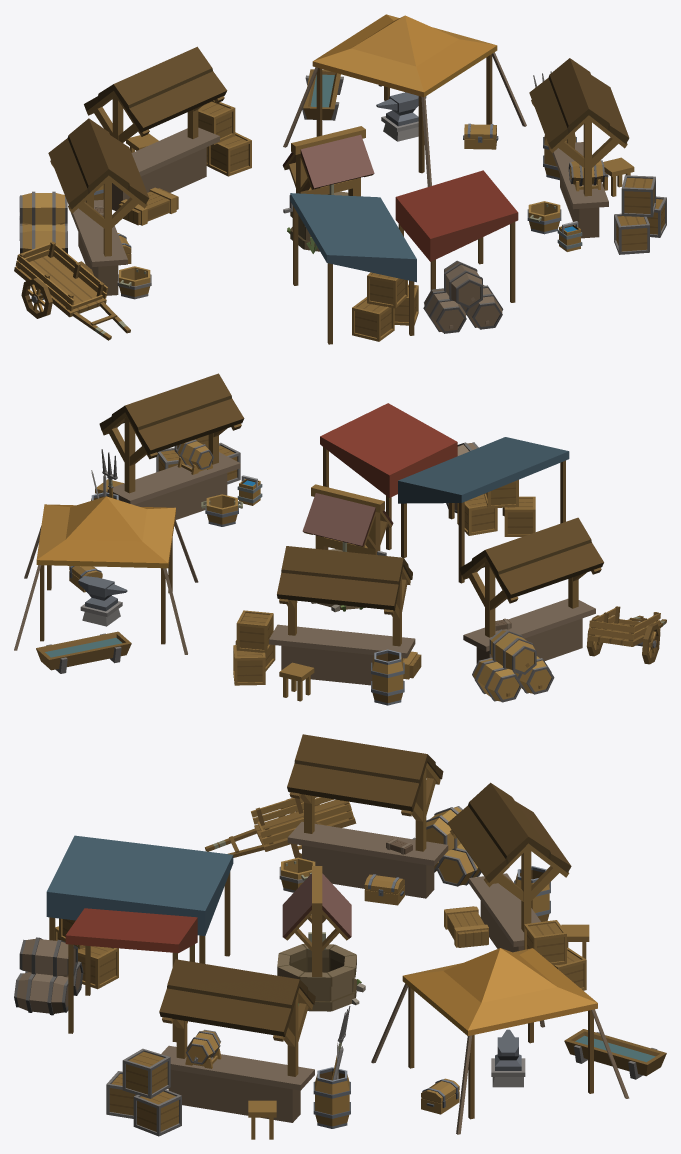
File: SF_Bld_Market_01.FBX
3 views of the same model, one above another, from view 1: azimuth 30°, elevation 25°; view 2: azimuth 150°, elevation 25°; view 3: azimuth 270°, elevation 25° (orthographic). The views are drawn at different scales.
Parts seen in each view (by area): view 1: SF_Bld_Market_01_Elements107, SF_Bld_Market_01_Elements21, SF_Bld_Market_01_Elements122, SF_Bld_Market_01_Elements74, SF_Bld_Market_01_Elements112, SF_Bld_Market_01_Elements117, SF_Bld_Market_01_Elements43, SF_Bld_Market_01_Elements181, SF_Bld_Market_01_Elements147, SF_Bld_Market_01_Elements69, SF_Bld_Market_01_Elements11, SF_Bld_Market_01_Elements148 (+18 smaller); view 2: SF_Bld_Market_01_Elements21, SF_Bld_Market_01_Elements122, SF_Bld_Market_01_Elements74, SF_Bld_Market_01_Elements107, SF_Bld_Market_01_Elements117, SF_Bld_Market_01_Elements112, SF_Bld_Market_01_Elements181, SF_Bld_Market_01_Elements43, SF_Bld_Market_01_Elements144, SF_Bld_Market_01_Elements72, SF_Bld_Market_01_Elements147, SF_Bld_Market_01_Elements69 (+11 smaller); view 3: SF_Bld_Market_01_Elements122, SF_Bld_Market_01_Elements74, SF_Bld_Market_01_Elements107, SF_Bld_Market_01_Elements112, SF_Bld_Market_01_Elements21, SF_Bld_Market_01_Elements181, SF_Bld_Market_01_Elements117, SF_Bld_Market_01_Elements43, SF_Bld_Market_01_Elements144, SF_Bld_Market_01_Elements132, SF_Bld_Market_01_Elements61, SF_Bld_Market_01_Elements158 (+14 smaller).
Part boxes in pixels (x1=…): SF_Bld_Market_01_Elements107: x1=283, y1=14, x2=526, y2=186; SF_Bld_Market_01_Elements21: x1=84, y1=46, x2=227, y2=210; SF_Bld_Market_01_Elements122: x1=529, y1=58, x2=629, y2=238; SF_Bld_Market_01_Elements74: x1=48, y1=118, x2=149, y2=295; SF_Bld_Market_01_Elements112: x1=290, y1=193, x2=416, y2=344; SF_Bld_Market_01_Elements117: x1=395, y1=170, x2=518, y2=302; SF_Bld_Market_01_Elements43: x1=14, y1=241, x2=130, y2=340; SF_Bld_Market_01_Elements181: x1=282, y1=126, x2=374, y2=253; SF_Bld_Market_01_Elements147: x1=376, y1=92, x2=426, y2=141; SF_Bld_Market_01_Elements69: x1=19, y1=191, x2=67, y2=225; SF_Bld_Market_01_Elements11: x1=207, y1=132, x2=251, y2=176; SF_Bld_Market_01_Elements148: x1=352, y1=297, x2=394, y2=341; SF_Bld_Market_01_Elements21: x1=269, y1=546, x2=415, y2=685; SF_Bld_Market_01_Elements122: x1=99, y1=373, x2=244, y2=519; SF_Bld_Market_01_Elements74: x1=459, y1=517, x2=603, y2=663; SF_Bld_Market_01_Elements107: x1=14, y1=496, x2=198, y2=654; SF_Bld_Market_01_Elements117: x1=320, y1=403, x2=457, y2=549; SF_Bld_Market_01_Elements112: x1=398, y1=437, x2=569, y2=583; SF_Bld_Market_01_Elements181: x1=302, y1=484, x2=393, y2=612; SF_Bld_Market_01_Elements43: x1=586, y1=606, x2=666, y2=664; SF_Bld_Market_01_Elements144: x1=36, y1=631, x2=131, y2=673; SF_Bld_Market_01_Elements72: x1=371, y1=649, x2=404, y2=705; SF_Bld_Market_01_Elements147: x1=78, y1=576, x2=127, y2=626; SF_Bld_Market_01_Elements69: x1=489, y1=629, x2=536, y2=674; SF_Bld_Market_01_Elements122: x1=159, y1=959, x2=315, y2=1122; SF_Bld_Market_01_Elements74: x1=287, y1=734, x2=448, y2=898; SF_Bld_Market_01_Elements107: x1=371, y1=948, x2=629, y2=1134; SF_Bld_Market_01_Elements112: x1=46, y1=835, x2=233, y2=963; SF_Bld_Market_01_Elements21: x1=447, y1=782, x2=571, y2=952; SF_Bld_Market_01_Elements181: x1=277, y1=866, x2=365, y2=1011; SF_Bld_Market_01_Elements117: x1=65, y1=908, x2=197, y2=1042; SF_Bld_Market_01_Elements43: x1=205, y1=796, x2=356, y2=858; SF_Bld_Market_01_Elements144: x1=564, y1=1029, x2=666, y2=1079; SF_Bld_Market_01_Elements132: x1=313, y1=1006, x2=350, y2=1128; SF_Bld_Market_01_Elements61: x1=14, y1=972, x2=68, y2=1015; SF_Bld_Market_01_Elements158: x1=122, y1=1048, x2=170, y2=1098.
Bounding box in the file's own units: 23.66 × 5.2 × 21.15.
